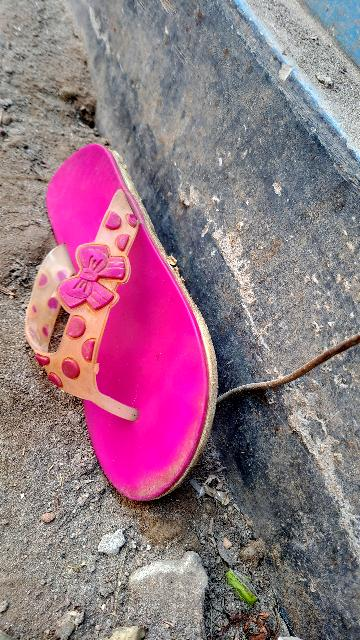sandal: (0, 135, 251, 526)
